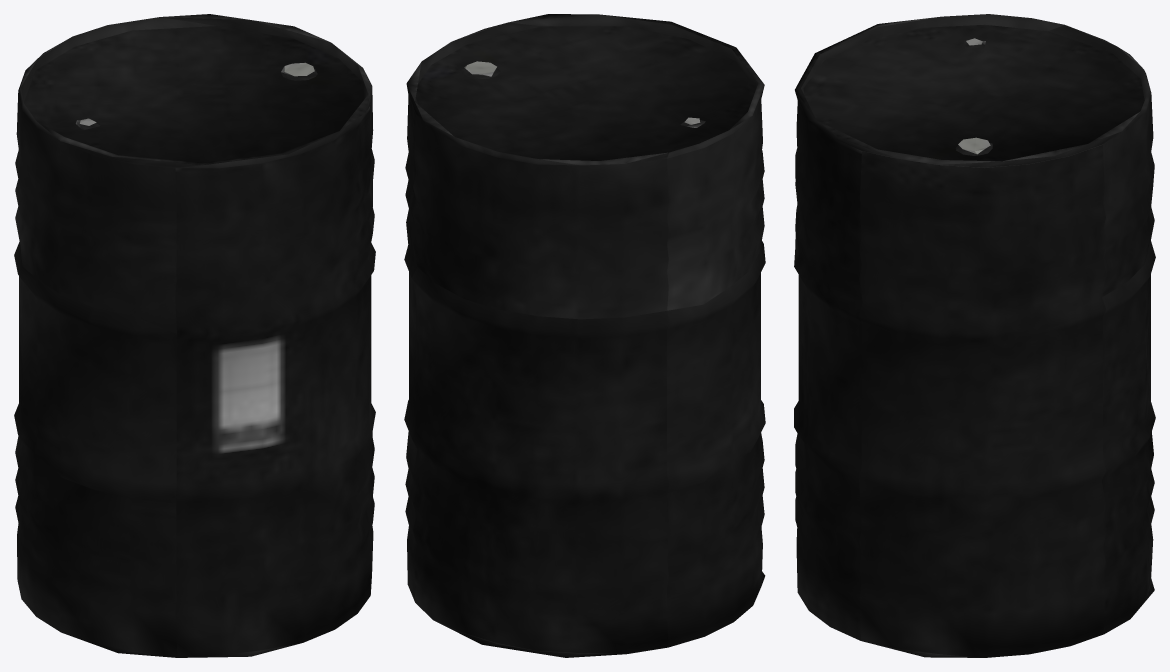
File: barrel-black.glb
3 views of the same model, side by side, from view 1: azimuth 30°, elevation 25°; view 2: azimuth 150°, elevation 25°; view 3: azimuth 270°, elevation 25° (orthographic).
Parts seen in each view (by area): view 1: Metal barre_Black; view 2: Metal barre_Black; view 3: Metal barre_Black.
Part boxes in pixels (bbox=[...]): Metal barre_Black: bbox=[14, 14, 375, 657]; Metal barre_Black: bbox=[404, 14, 765, 657]; Metal barre_Black: bbox=[794, 14, 1155, 657].
Bounding box in the file's own units: 0.5871 × 0.8858 × 0.5858.
1 material, 1 textured.
